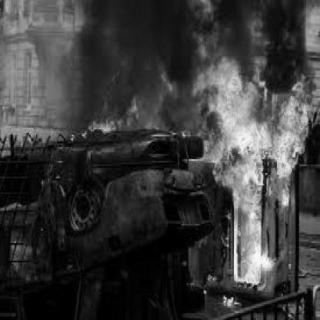Fire: (71, 3, 315, 311)
